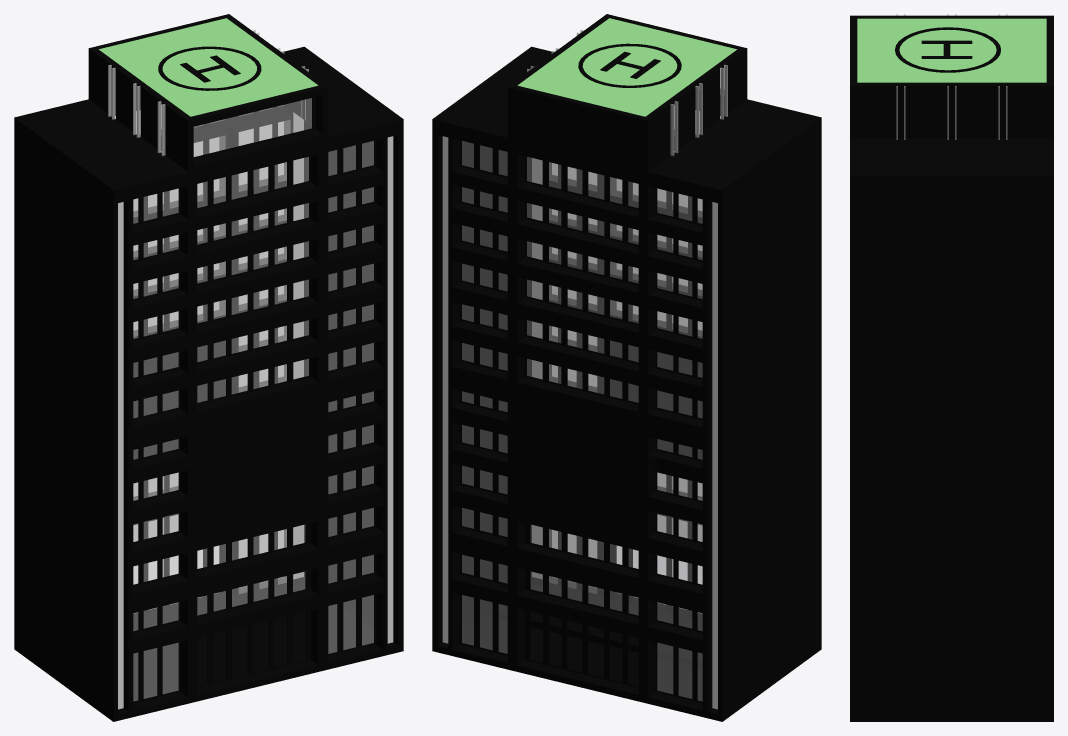
File: HandMade_Building2.fbx
3 renders of one model, left to right at view 1: azimuth 30°, elevation 25°; view 2: azimuth 150°, elevation 25°; view 3: azimuth 270°, elevation 25°, orthographic. The views are drawn at different scales.
Parts seen in each view (by area): view 1: Cube.008; view 2: Cube.008; view 3: Cube.008.
Boxes of the visible parts, <box> form: Cube.008: <box>14,14,403,721</box>; Cube.008: <box>432,14,821,721</box>; Cube.008: <box>850,14,1053,721</box>.
Size of the model in its own units: 620 by 2009 by 1046.
